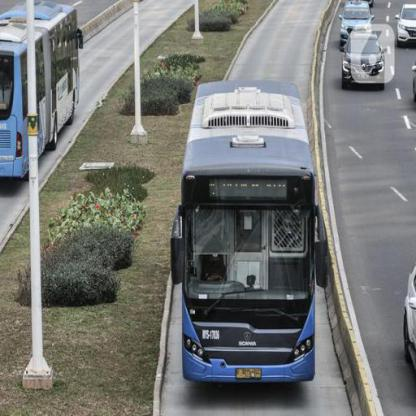bus: (178, 82, 317, 393), (0, 0, 86, 188)
car: (340, 32, 390, 91), (341, 1, 372, 34), (396, 4, 416, 48)
